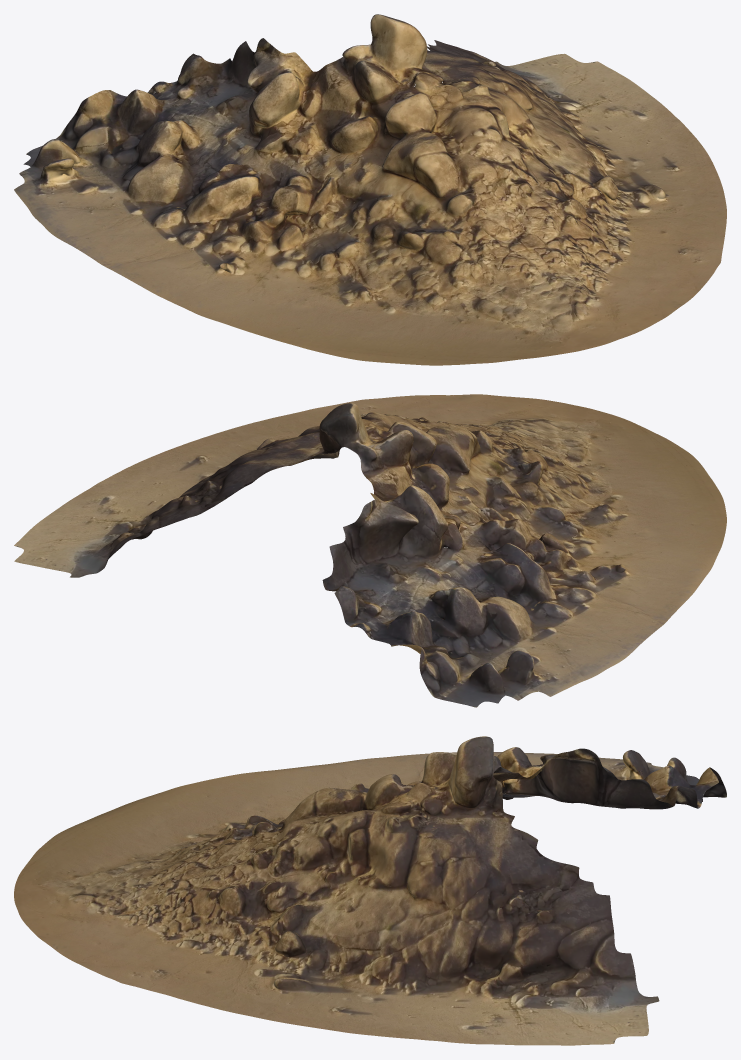
Rendered from sf-rocks-3d-scan-b92207.glb.
3 renders of one model, top to bottom at view 1: azimuth 30°, elevation 25°; view 2: azimuth 150°, elevation 25°; view 3: azimuth 270°, elevation 25°, orthographic. The views are drawn at different scales.
Parts seen in each view (by area): view 1: rock.001_Material.002_0; view 2: rock.001_Material.002_0; view 3: rock.001_Material.002_0.
Part boxes in pixels (x1,y1,x2,y2): rock.001_Material.002_0: (14,14,726,365); rock.001_Material.002_0: (14,394,726,707); rock.001_Material.002_0: (14,736,726,1045).
Bounding box in the file's own units: 1203 × 326 × 1226.
Materials: 1 (1 with a texture image).
